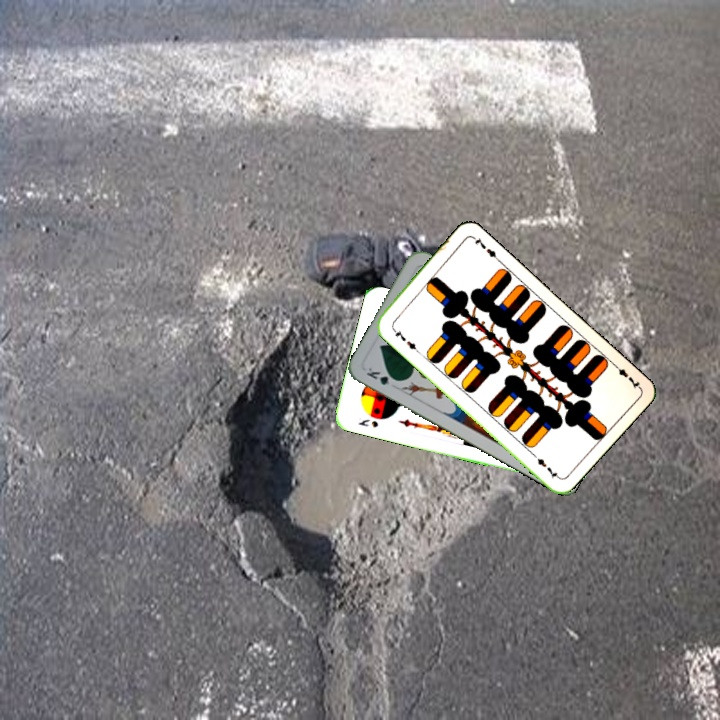E7: (609, 359, 642, 391), (388, 322, 420, 354)
GK: (362, 363, 401, 388)
SK: (354, 415, 381, 430)
